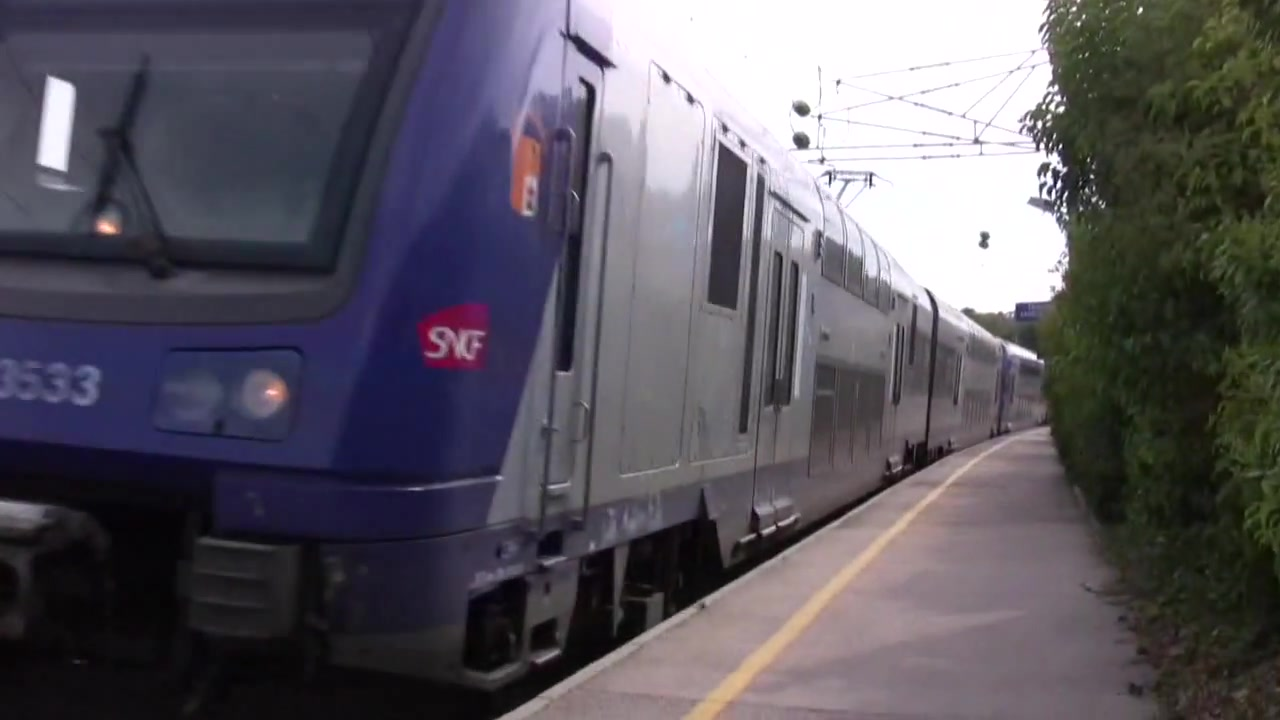train: (1, 1, 1047, 720)
